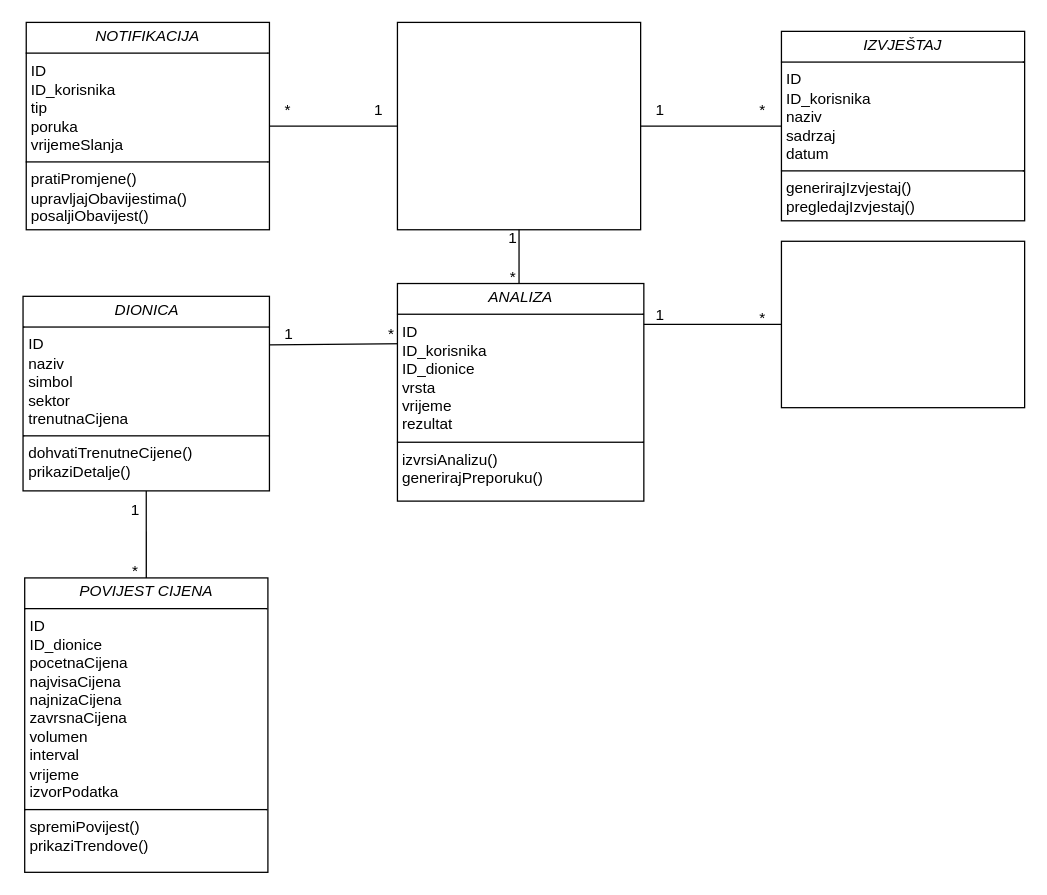
Some shapes in this 1047 by 895 pixel diagram are drawn without their labels. The shapes that lost their labels are listed below. From the top down, each one's centre as x and y in pixels, then its label:
At point 518,125: "KORISNIK ID korisnickoIme email tipKorisnika Lozinka prijava() odjava()".
At point 902,324: "PREPORUKA ID ID_analize tip opis pregledajPreporuku()".
